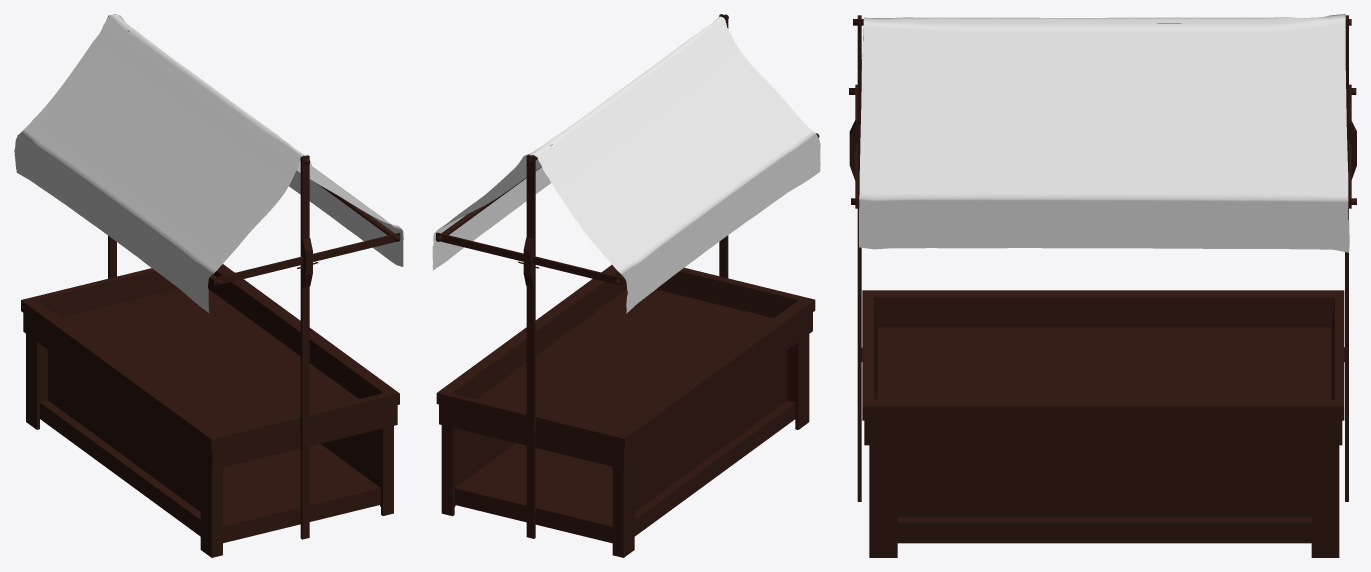
File: Varjualused.fbx
3 views of the same model, side by side, from view 1: azimuth 30°, elevation 25°; view 2: azimuth 150°, elevation 25°; view 3: azimuth 270°, elevation 25° (orthographic). The views are drawn at different scales.
Parts seen in each view (by area): view 1: varjualune2; view 2: varjualune2; view 3: varjualune2.
Part boxes in pixels (x1,y1,x2,y2): varjualune2: (14, 14, 403, 557); varjualune2: (432, 14, 820, 557); varjualune2: (849, 14, 1356, 557).
Bounding box in the file's own units: 1.27 × 2.38 × 2.26.
